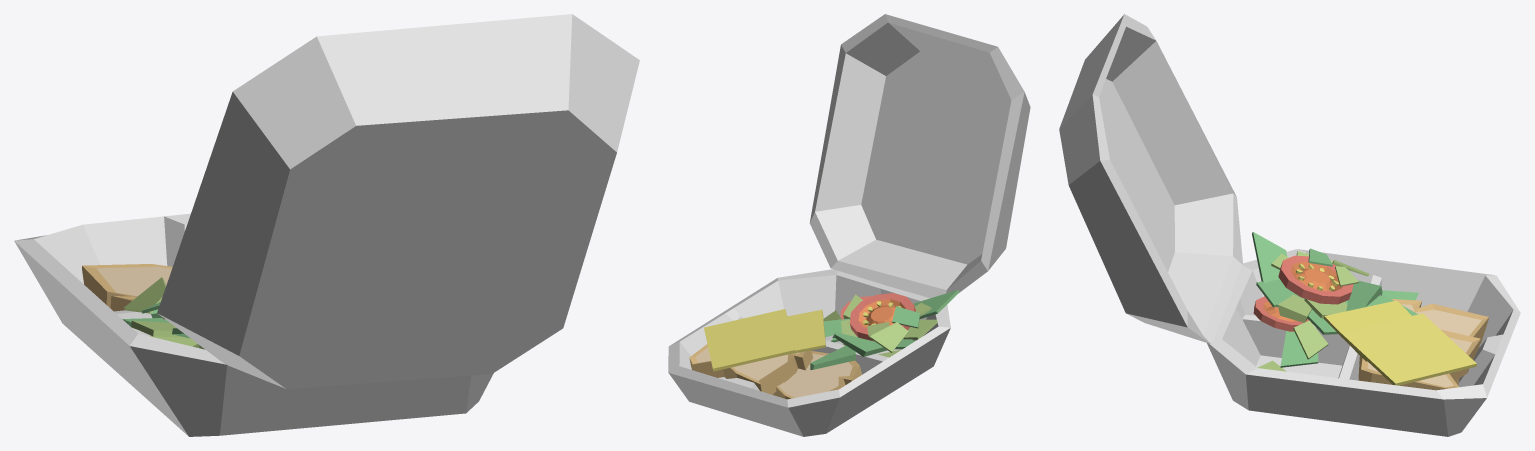
File: food.fbx
3 renders of one model, left to right at view 1: azimuth 30°, elevation 25°; view 2: azimuth 150°, elevation 25°; view 3: azimuth 270°, elevation 25°, orthographic. The views are drawn at different scales.
Parts seen in each view (by area): view 1: group_1472431247, mesh_1638459739, mesh_367881535; view 2: group_1472431247, mesh_1318984881, mesh_1298366004, mesh_1638459739, group_1758720616, mesh_1788740791, mesh_367881535, mesh_1956171923, mesh_1045029593, mesh_545457242, mesh_1880326366, mesh_305856082; view 3: group_1472431247, mesh_1318984881, group_1758720616, mesh_1638459739, mesh_1298366004, mesh_1788740791, mesh_545457242, mesh_1454843256, mesh_1395756515, mesh_1193390528, mesh_1956171923, mesh_1401874966 (+1 smaller).
Part boxes in pixels (<box>): group_1472431247: <box>14,14,639,436</box>; mesh_1638459739: <box>82,264,172,311</box>; mesh_367881535: <box>124,277,166,313</box>; group_1472431247: <box>668,14,1030,436</box>; mesh_1318984881: <box>704,309,794,371</box>; mesh_1298366004: <box>689,344,813,394</box>; mesh_1638459739: <box>772,351,861,399</box>; group_1758720616: <box>849,293,915,341</box>; mesh_1788740791: <box>787,310,825,354</box>; mesh_367881535: <box>869,322,908,352</box>; mesh_1956171923: <box>832,332,887,356</box>; mesh_1045029593: <box>810,345,855,369</box>; mesh_545457242: <box>913,290,959,318</box>; mesh_1880326366: <box>892,306,920,328</box>; mesh_305856082: <box>903,319,937,340</box>; group_1472431247: <box>1059,14,1520,436</box>; mesh_1318984881: <box>1341,313,1476,385</box>; group_1758720616: <box>1278,255,1353,304</box>; mesh_1638459739: <box>1391,299,1488,385</box>; mesh_1298366004: <box>1358,329,1480,390</box>; mesh_1788740791: <box>1323,300,1411,361</box>; mesh_545457242: <box>1252,232,1287,282</box>; mesh_1454843256: <box>1253,296,1308,331</box>; mesh_1395756515: <box>1280,331,1318,367</box>; mesh_1193390528: <box>1293,320,1328,359</box>; mesh_1956171923: <box>1346,280,1382,311</box>; mesh_1401874966: <box>1278,294,1311,322</box>.
Size of the model in its own units: 90.9 by 109 by 139.
